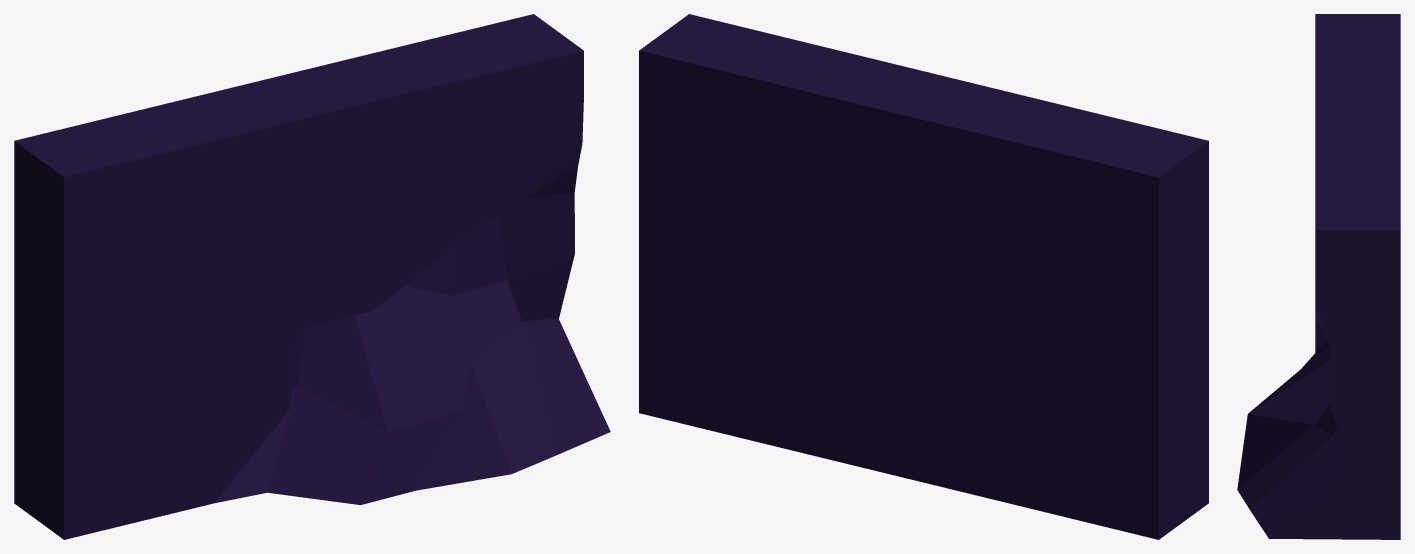
Rendered from cave_corner_top_001_msh.fbx.
3 renders of one model, left to right at view 1: azimuth 30°, elevation 25°; view 2: azimuth 150°, elevation 25°; view 3: azimuth 270°, elevation 25°, orthographic. The views are drawn at different scales.
Visible parts, largest first — view 1: cave_corner_top_001_msh; view 2: cave_corner_top_001_msh; view 3: cave_corner_top_001_msh.
Part boxes in pixels (box(x1,y1,x2,y2)): cave_corner_top_001_msh: box(14, 14, 610, 539); cave_corner_top_001_msh: box(639, 14, 1208, 539); cave_corner_top_001_msh: box(1237, 14, 1400, 539).
Bounding box in the file's own units: 600 × 400 × 191.
